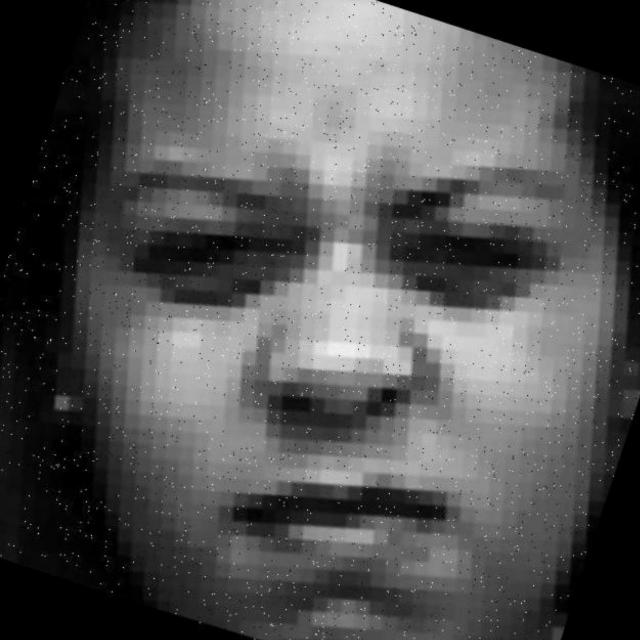Disgust: (6, 38, 640, 605)
